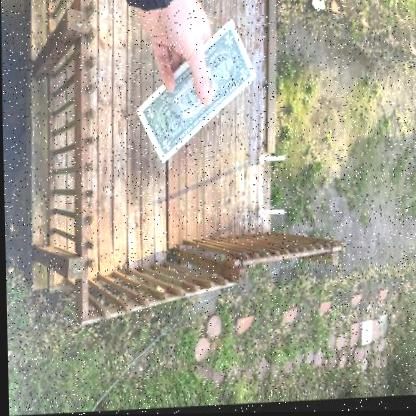one-back: (134, 21, 255, 166)
